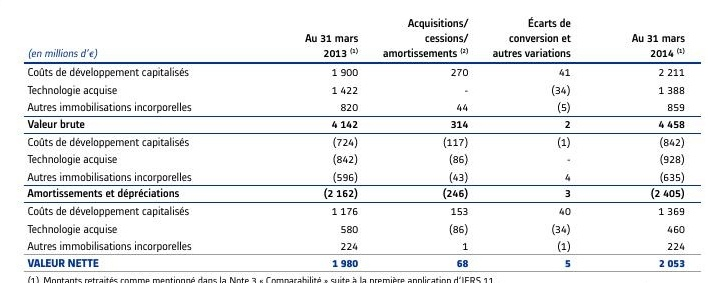table: (0, 0, 708, 283)
